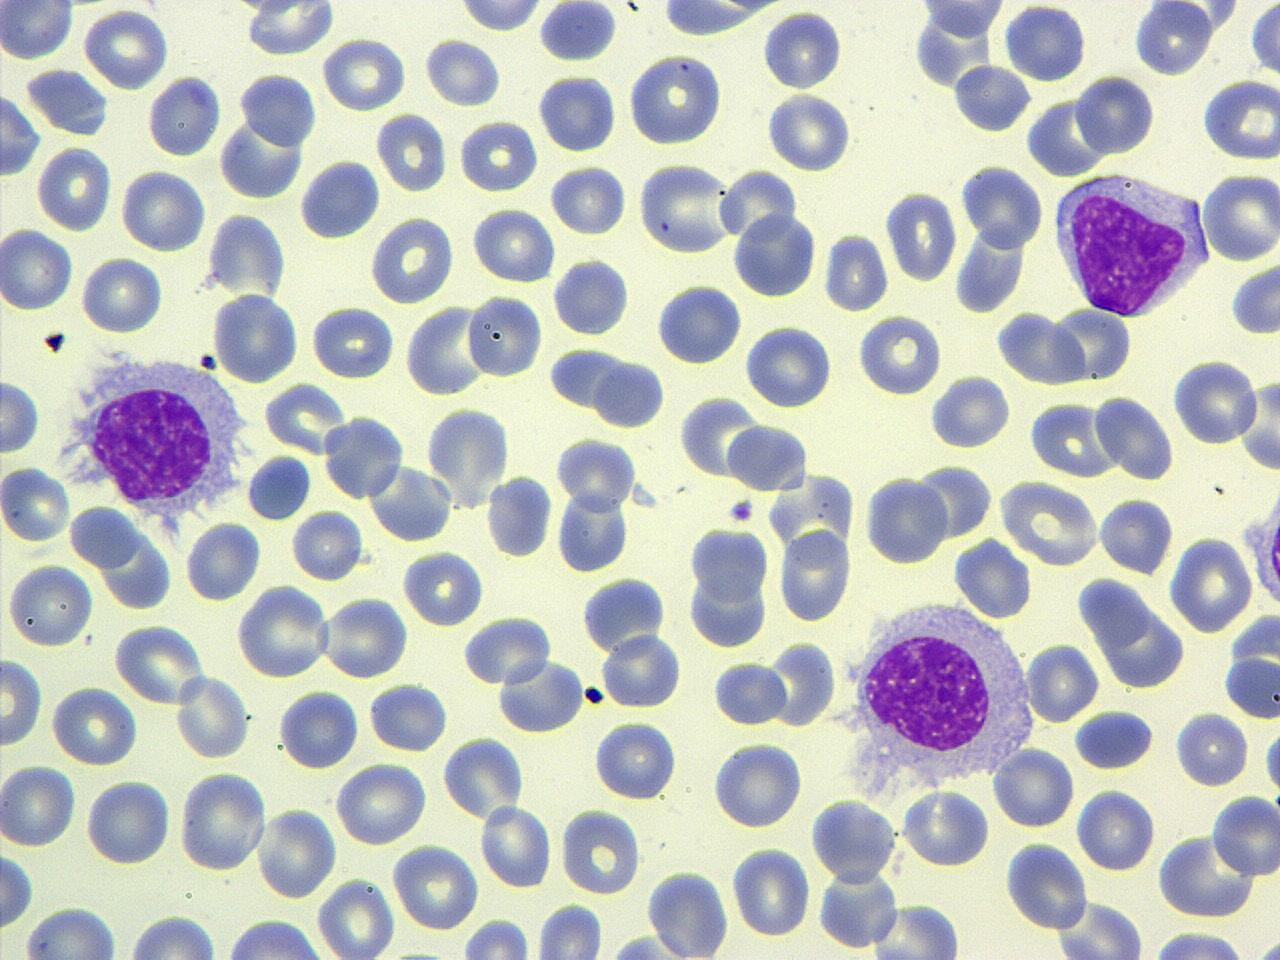Platelets: (1228, 260, 1280, 339), (1261, 724, 1280, 796), (728, 496, 754, 524), (43, 327, 68, 355), (1257, 939, 1280, 960), (198, 352, 217, 370)
RBC: (625, 50, 726, 147), (176, 768, 268, 873), (636, 159, 734, 255), (1154, 828, 1256, 920), (998, 477, 1102, 567), (423, 404, 512, 506), (236, 582, 330, 678), (1168, 532, 1254, 636), (210, 290, 303, 386), (709, 738, 806, 830), (684, 552, 770, 652), (113, 620, 208, 708), (1171, 354, 1261, 446), (860, 472, 948, 566), (255, 802, 338, 900), (404, 300, 485, 400), (742, 322, 834, 410), (336, 759, 429, 846), (368, 213, 455, 306), (4, 560, 93, 650), (644, 867, 732, 958), (84, 776, 172, 866), (118, 165, 208, 253), (1003, 838, 1089, 930), (732, 842, 812, 940), (809, 796, 898, 884), (391, 842, 480, 930), (320, 412, 406, 503), (493, 654, 590, 734), (218, 112, 306, 200), (440, 732, 526, 822), (558, 804, 642, 896), (654, 280, 742, 367), (855, 310, 942, 398), (49, 683, 141, 766), (1092, 391, 1176, 481), (732, 210, 816, 300), (777, 524, 852, 624), (592, 718, 679, 804), (82, 5, 170, 90), (1027, 397, 1117, 480), (960, 160, 1043, 250), (322, 592, 408, 678), (816, 864, 901, 951), (991, 742, 1075, 830), (579, 574, 669, 656), (1074, 784, 1156, 874), (764, 89, 852, 172), (470, 202, 558, 285), (461, 610, 554, 688), (1202, 168, 1280, 261), (688, 518, 768, 608), (465, 290, 544, 381), (35, 141, 112, 234), (297, 157, 381, 242), (1073, 70, 1155, 157), (761, 6, 843, 93), (902, 787, 990, 868), (1200, 75, 1280, 163), (208, 209, 286, 299), (0, 759, 78, 849), (370, 460, 453, 544), (550, 254, 632, 339), (953, 534, 1034, 620), (317, 873, 397, 960), (883, 188, 956, 283), (537, 70, 619, 154), (278, 685, 360, 769), (309, 302, 397, 380), (144, 72, 222, 160), (79, 253, 162, 335), (400, 547, 485, 627), (173, 672, 250, 760), (554, 486, 630, 575), (1053, 302, 1135, 384), (766, 632, 836, 727), (1002, 4, 1086, 83), (0, 225, 75, 313), (600, 630, 684, 708), (321, 35, 406, 112), (261, 379, 347, 455), (722, 420, 810, 493), (929, 372, 1011, 450), (1024, 640, 1102, 722), (1098, 493, 1174, 577), (480, 803, 553, 890), (1210, 790, 1280, 880), (186, 518, 261, 602), (376, 108, 448, 195), (484, 472, 554, 560), (456, 117, 537, 193), (1131, 2, 1213, 77), (555, 435, 637, 510), (950, 62, 1035, 134), (366, 680, 448, 754), (238, 71, 318, 146), (548, 162, 626, 237), (290, 505, 365, 583), (1173, 708, 1247, 786), (1, 463, 72, 544), (820, 230, 890, 312), (1053, 898, 1145, 960), (423, 36, 501, 108), (21, 904, 121, 960), (868, 902, 964, 960), (711, 656, 788, 728), (240, 0, 337, 57), (536, 1, 624, 63), (1072, 708, 1154, 771), (594, 359, 668, 428), (654, 0, 784, 39), (241, 453, 312, 522), (68, 502, 140, 569), (1222, 640, 1278, 723), (0, 0, 76, 61), (1248, 476, 1280, 620), (220, 916, 329, 958), (125, 911, 219, 959), (1236, 376, 1280, 474), (530, 902, 604, 960), (0, 654, 43, 750), (0, 90, 43, 179), (1144, 928, 1260, 960), (912, 0, 1011, 36), (0, 846, 36, 936), (0, 376, 41, 455), (454, 0, 546, 34), (461, 917, 531, 960)
WBC: (860, 0, 1280, 190), (846, 598, 1039, 800), (57, 348, 250, 532), (1048, 168, 1214, 320), (626, 50, 728, 150), (211, 292, 306, 384), (322, 410, 405, 502), (298, 154, 382, 244), (580, 574, 670, 656), (502, 658, 592, 736), (555, 485, 631, 576), (145, 72, 222, 161), (552, 255, 632, 339), (1130, 2, 1216, 79), (724, 419, 810, 495), (485, 469, 555, 561), (23, 64, 112, 136), (950, 60, 1033, 137), (1072, 706, 1156, 773), (536, 0, 618, 66), (1247, 475, 1280, 622), (242, 450, 313, 518), (0, 0, 75, 61), (1248, 0, 1280, 80)
